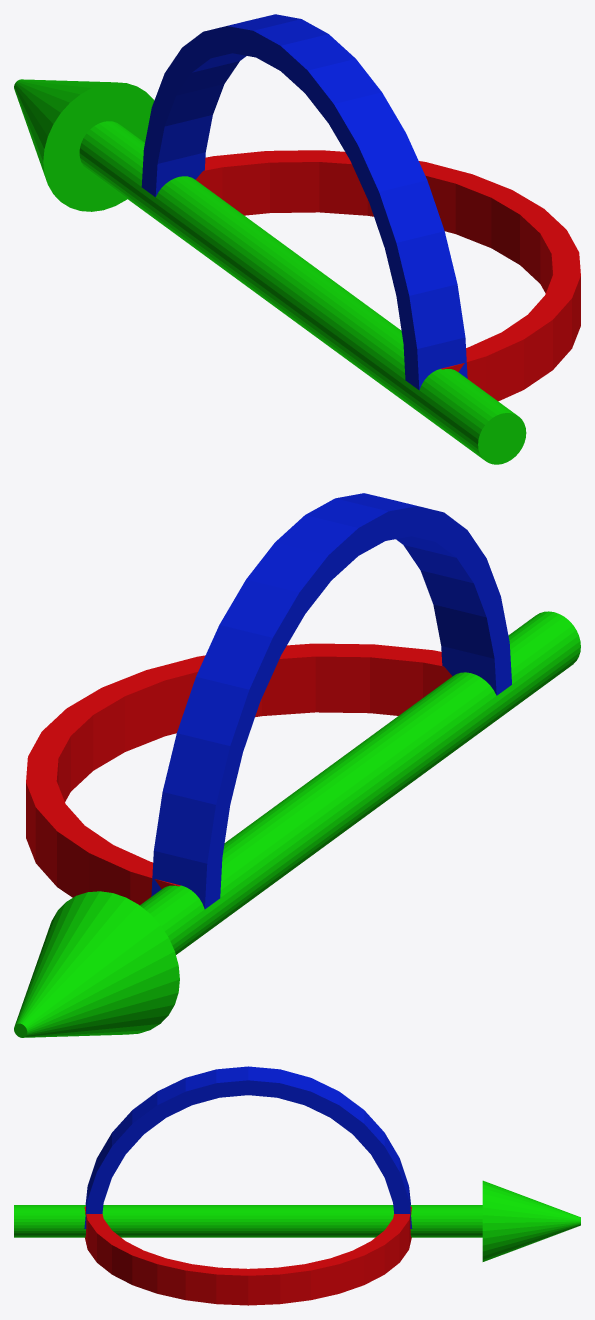
File: Direction_Arrow.glb
3 views of the same model, one above another, from view 1: azimuth 30°, elevation 25°; view 2: azimuth 150°, elevation 25°; view 3: azimuth 270°, elevation 25° (orthographic). The views are drawn at different scales.
Parts seen in each view (by area): view 1: Circle; view 2: Circle; view 3: Circle.
Boxes of the visible parts, x1=… form: Circle: x1=14, y1=14, x2=580, y2=464; Circle: x1=14, y1=493, x2=580, y2=1037; Circle: x1=14, y1=1066, x2=580, y2=1305.
Size of the model in its own units: 0.625 by 0.625 by 1.73.
